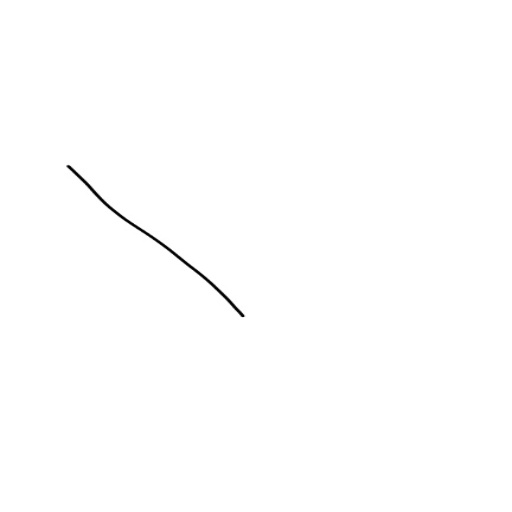line: (65, 163, 251, 321)
